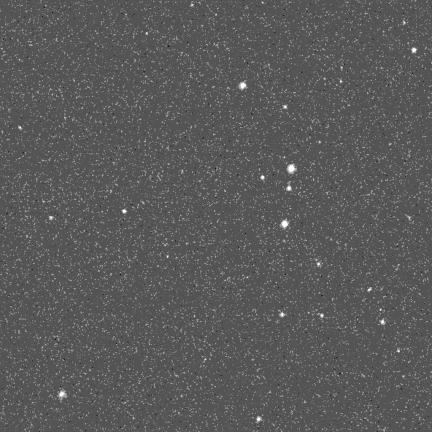blob: (58, 391, 67, 400), (287, 164, 296, 173), (281, 220, 289, 229), (239, 82, 246, 89), (279, 312, 286, 317), (411, 48, 417, 53), (257, 416, 262, 422), (122, 209, 128, 214), (380, 319, 385, 324), (287, 185, 291, 191), (261, 175, 265, 181), (317, 262, 321, 267), (49, 216, 53, 220), (368, 287, 372, 291), (283, 105, 287, 109), (19, 126, 22, 130), (397, 349, 400, 353), (403, 20, 406, 24), (320, 314, 323, 318), (340, 80, 343, 84)
